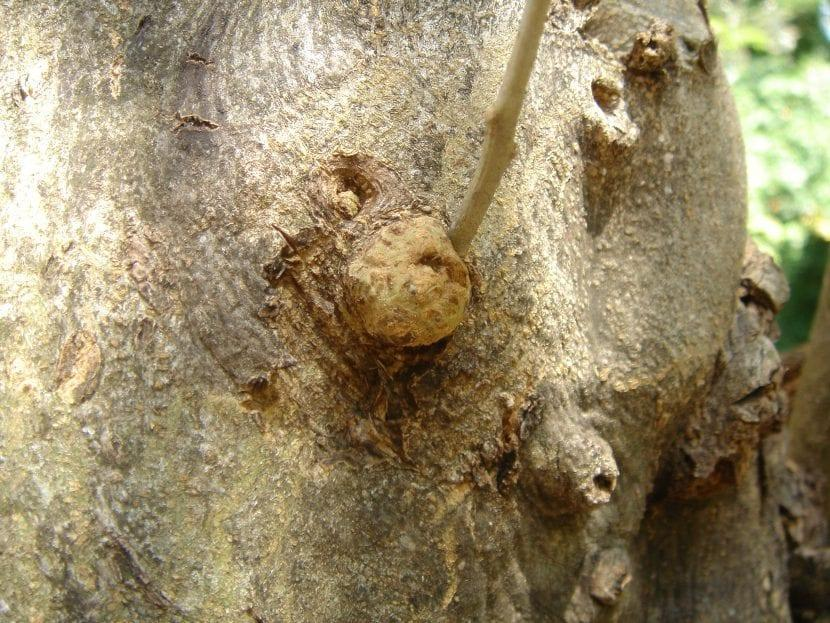Tuberculosis: (272, 146, 492, 440), (512, 409, 632, 566), (542, 48, 692, 141)
